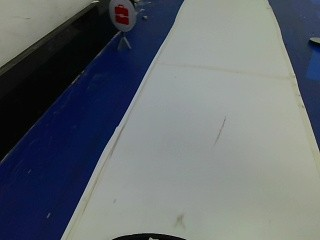company: (107, 0, 136, 32)
